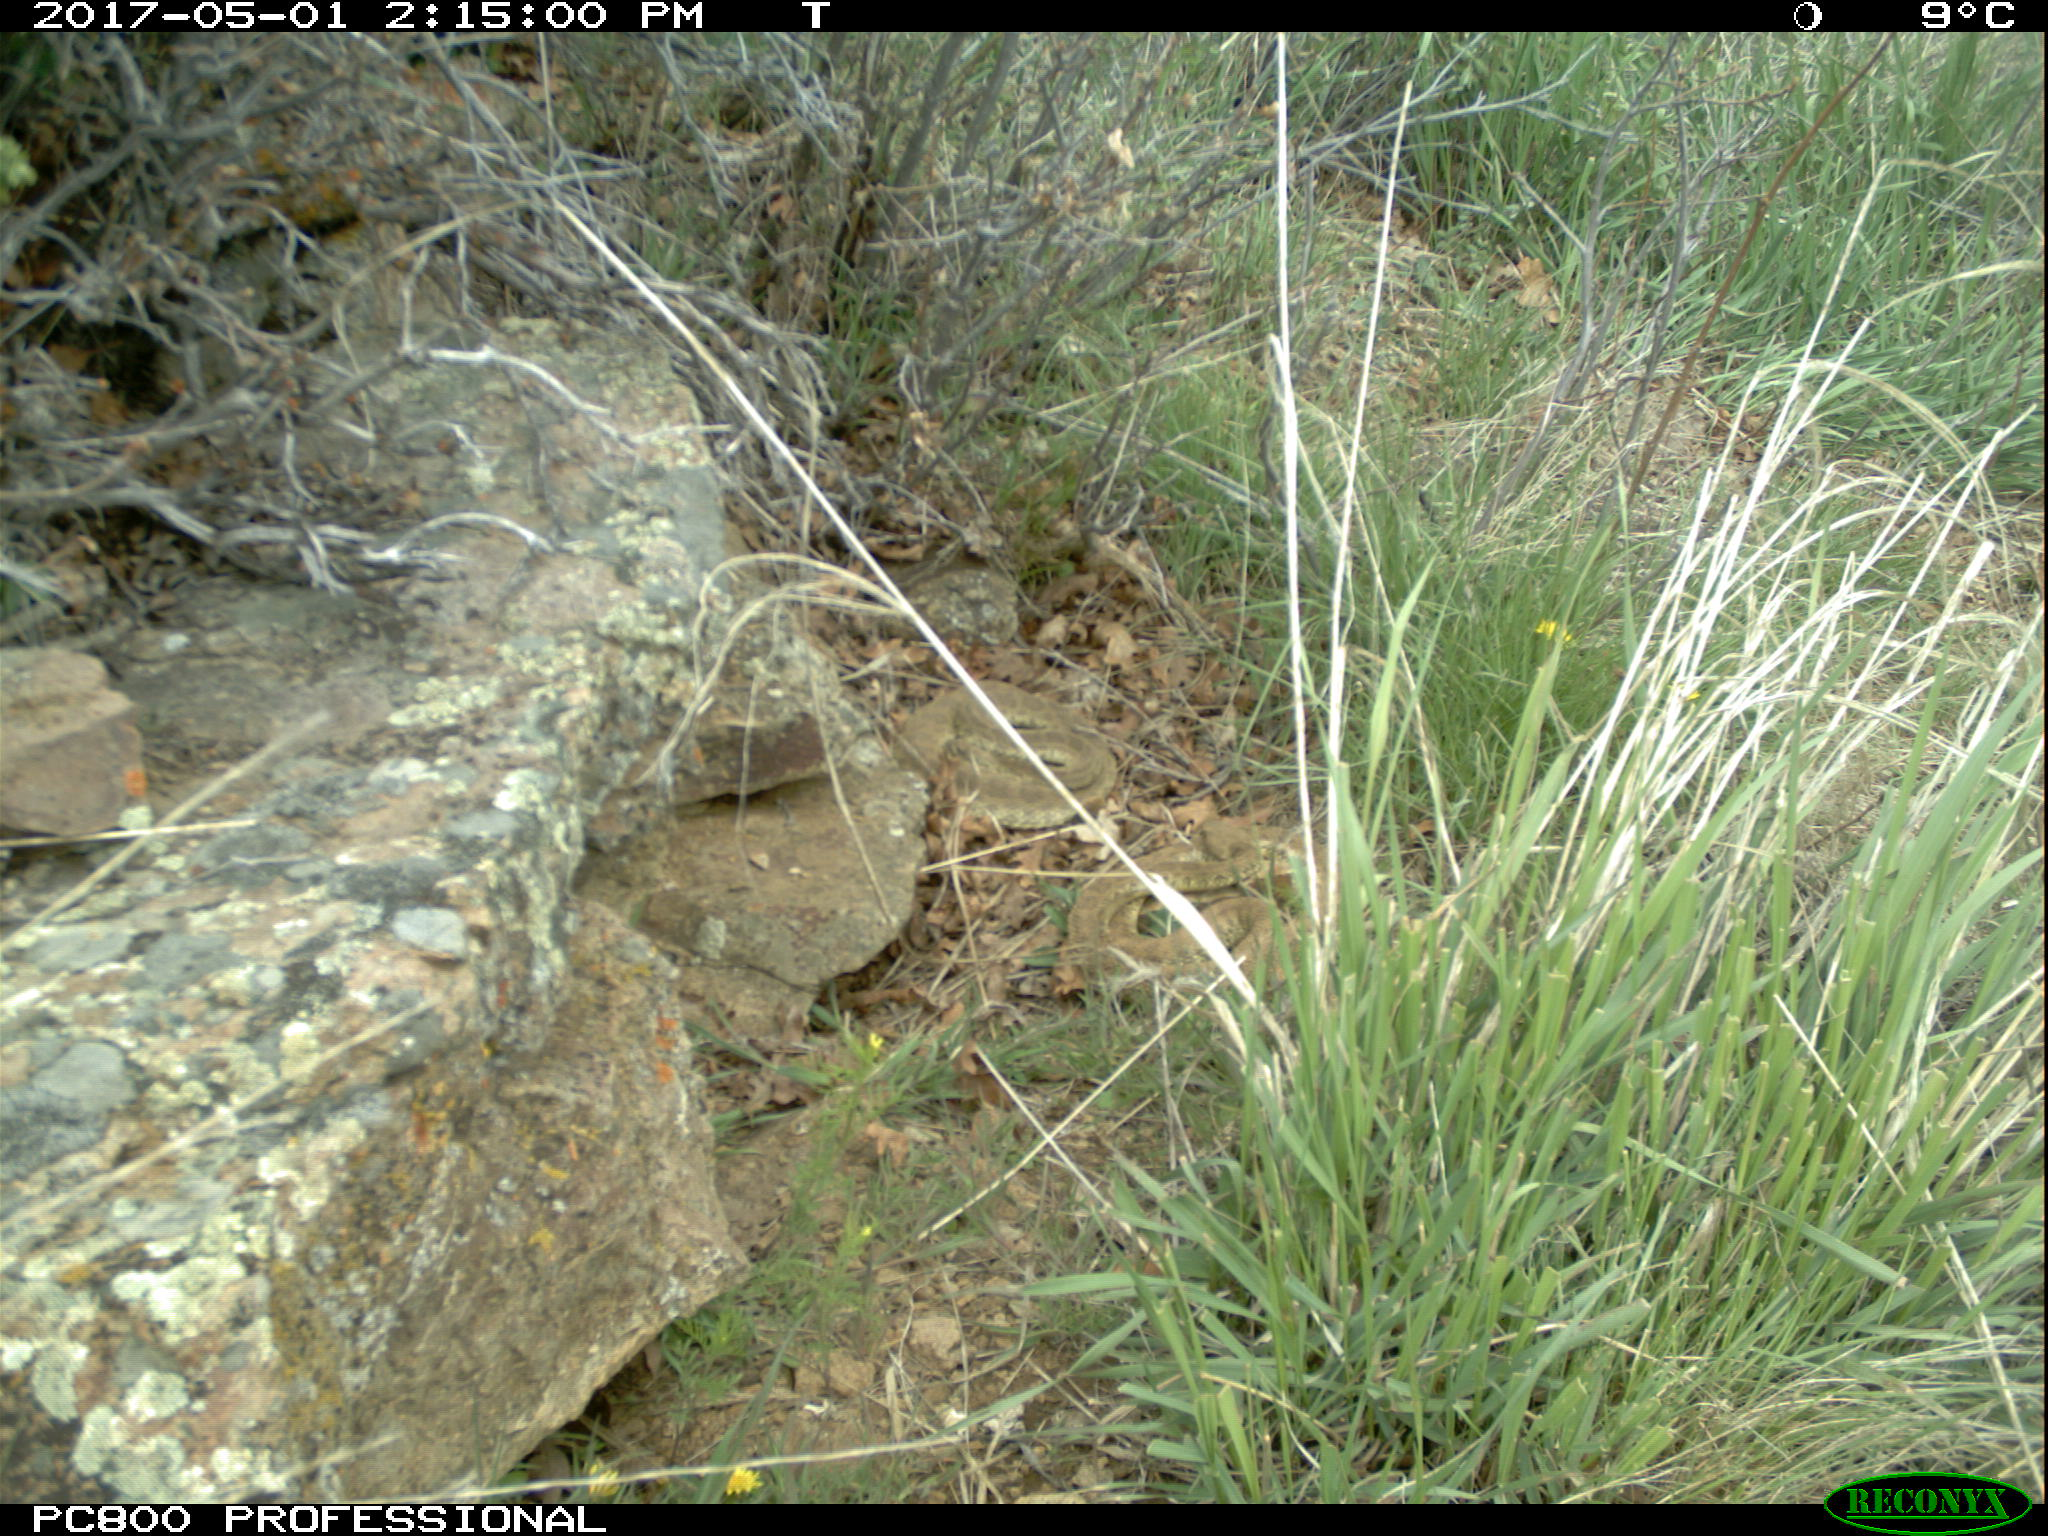snake: (1080, 816, 1301, 1000), (898, 674, 1127, 831)
